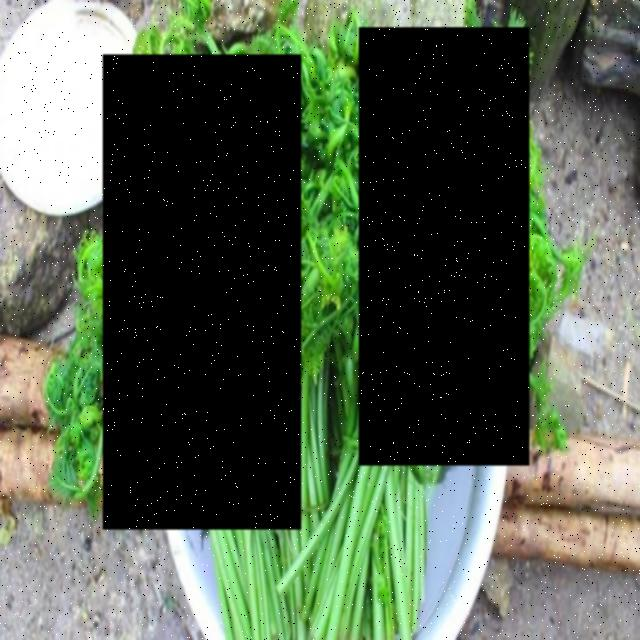Fiddlehead_Ferns: (103, 55, 301, 530), (359, 27, 530, 466)
